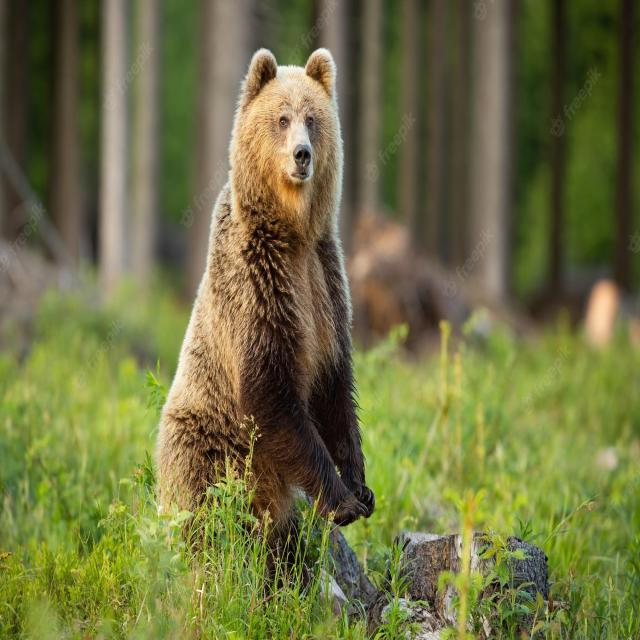Bear: (154, 48, 376, 538)
